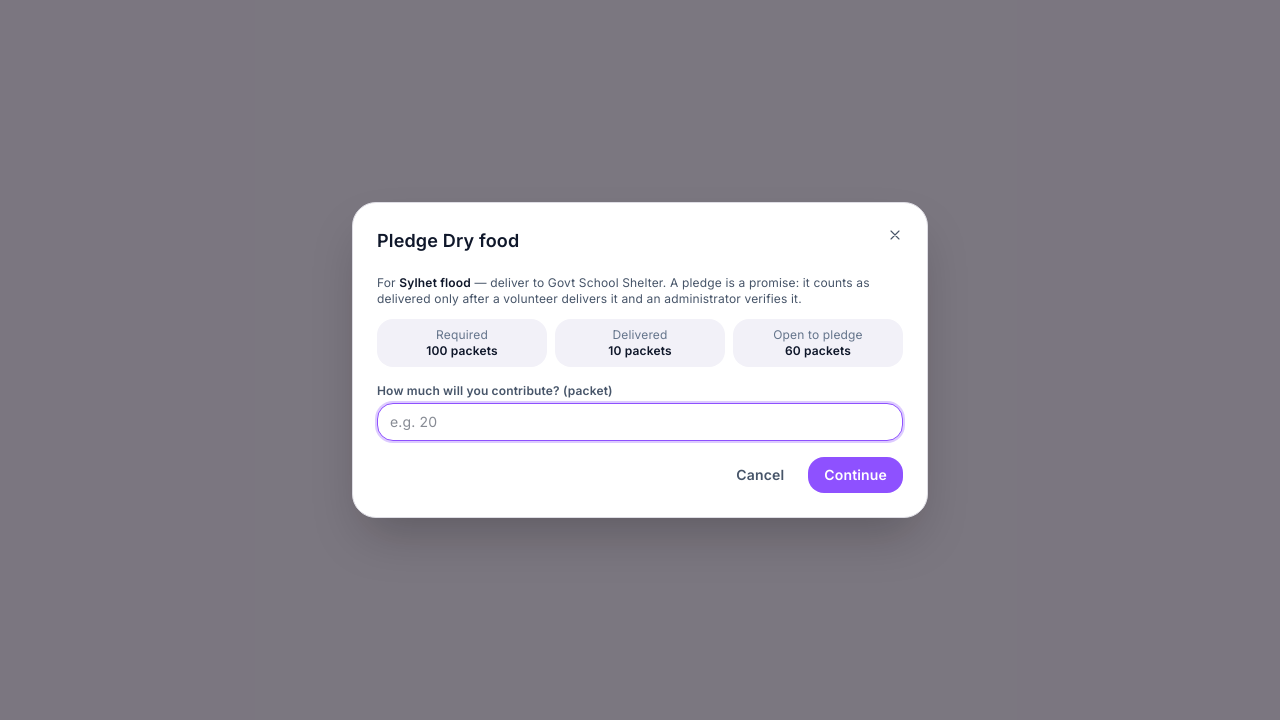
Test: PledgeDialog — quantity step › rejects "" without leaving the step
The image size is (1280, 720).
Step 1. Click the button "Continue" → (856, 475), box [808,457,903,493]
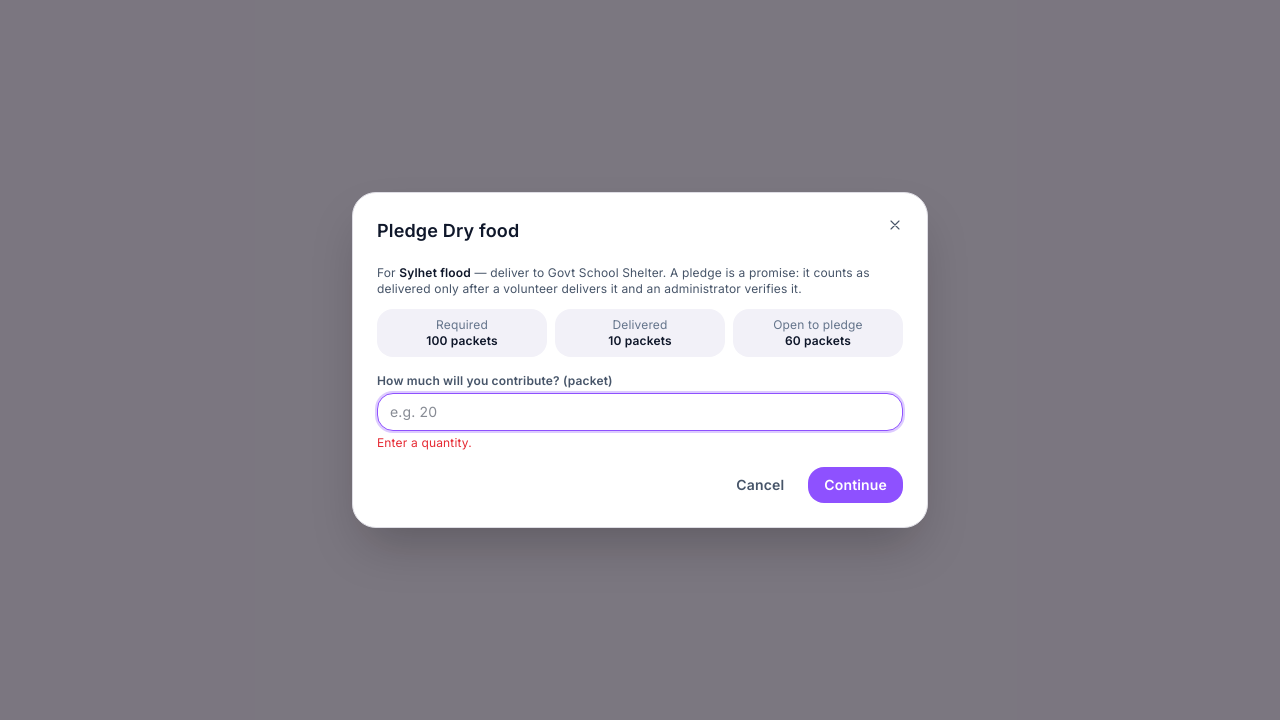
Check: the message shows "Enter a quantity", box [377,435,472,450]
